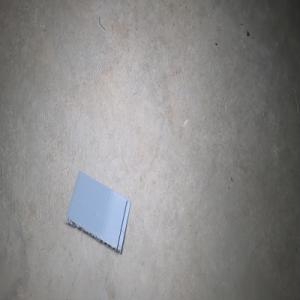PlasticPart: (62, 170, 131, 254)
